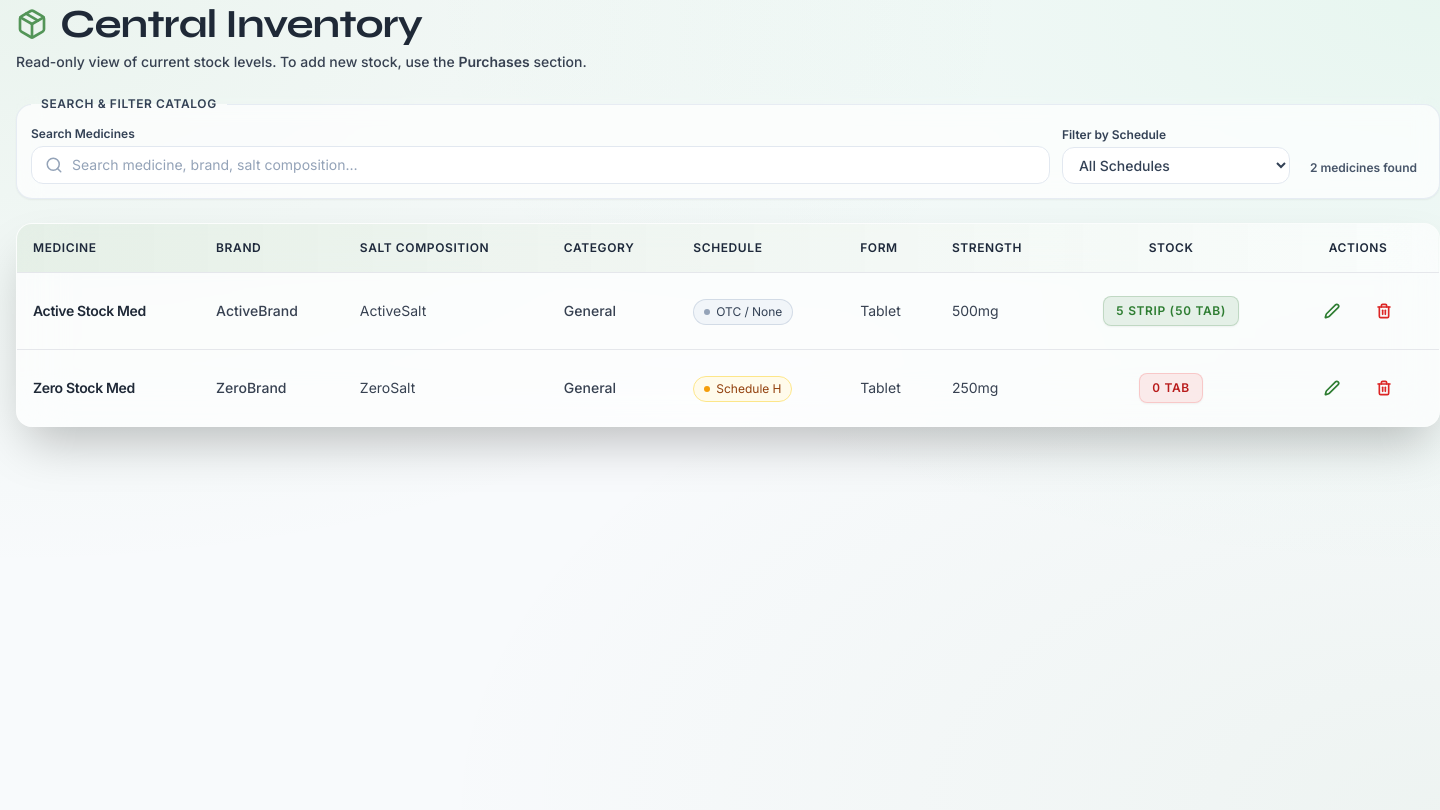
Scenario: Integration: Inventory Schedule & Filter Flow › locks units_per_strip in Edit modal when medicine has stock > 0, and allows it when stock is 0
Expected: the text "Active Stock Med" is shown, [33,302,146,319]
Expected: the text "Zero Stock Med" is shown, [33,379,135,396]
Step 1. Click the button named "Edit Active Stock Med" → click(1332, 311), box [1310,289,1354,333]
(page scrolled)
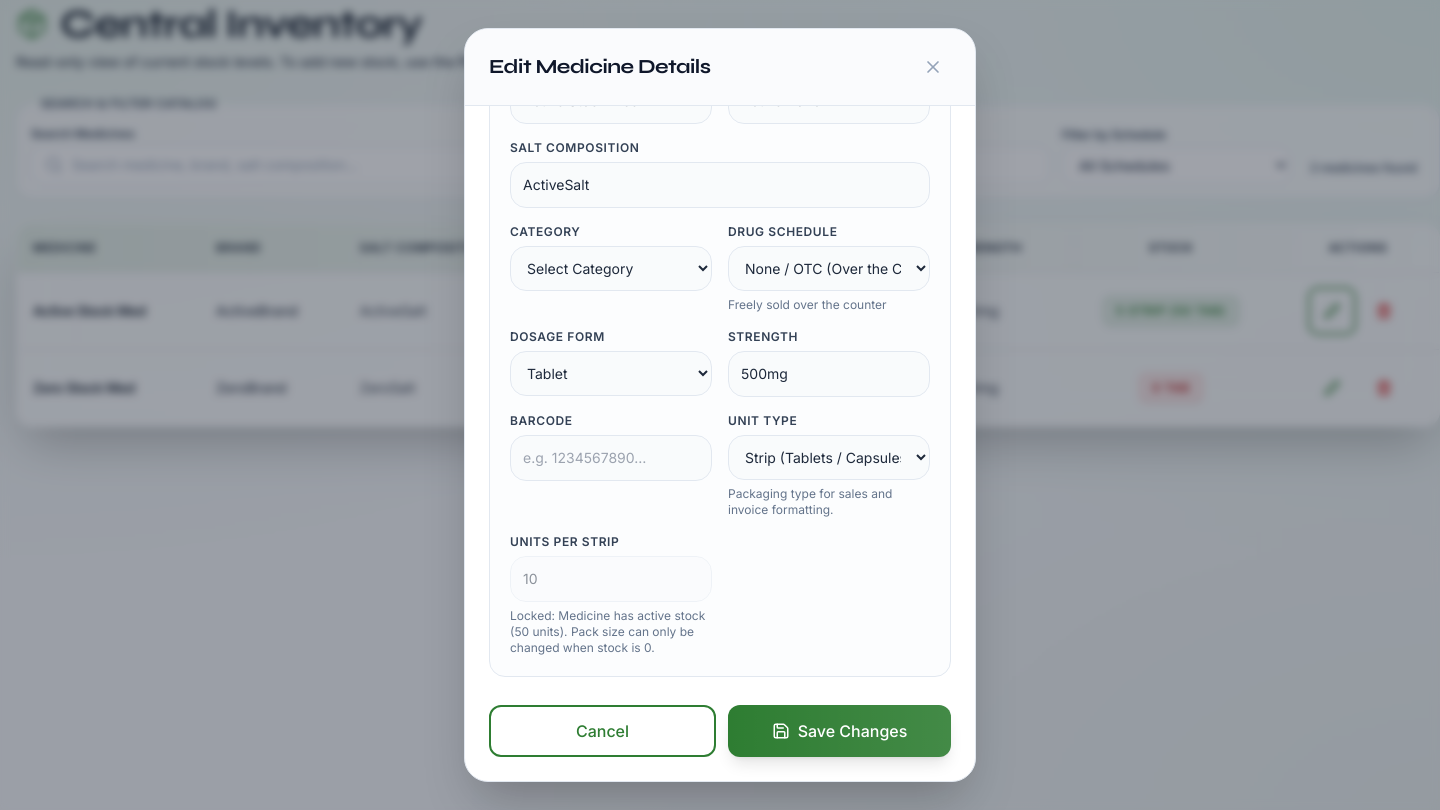
Result: the heading "Edit Medicine Details" is shown at [489,53,711,81]
Result: the number field labelled "Units per Strip" is disabled at [510,556,712,602]
Result: the text "Locked: Medicine has active stock (50 units)" is shown at [510,608,705,655]
Step 2. Click the button "Cancel" → click(602, 731), box [489,705,716,757]
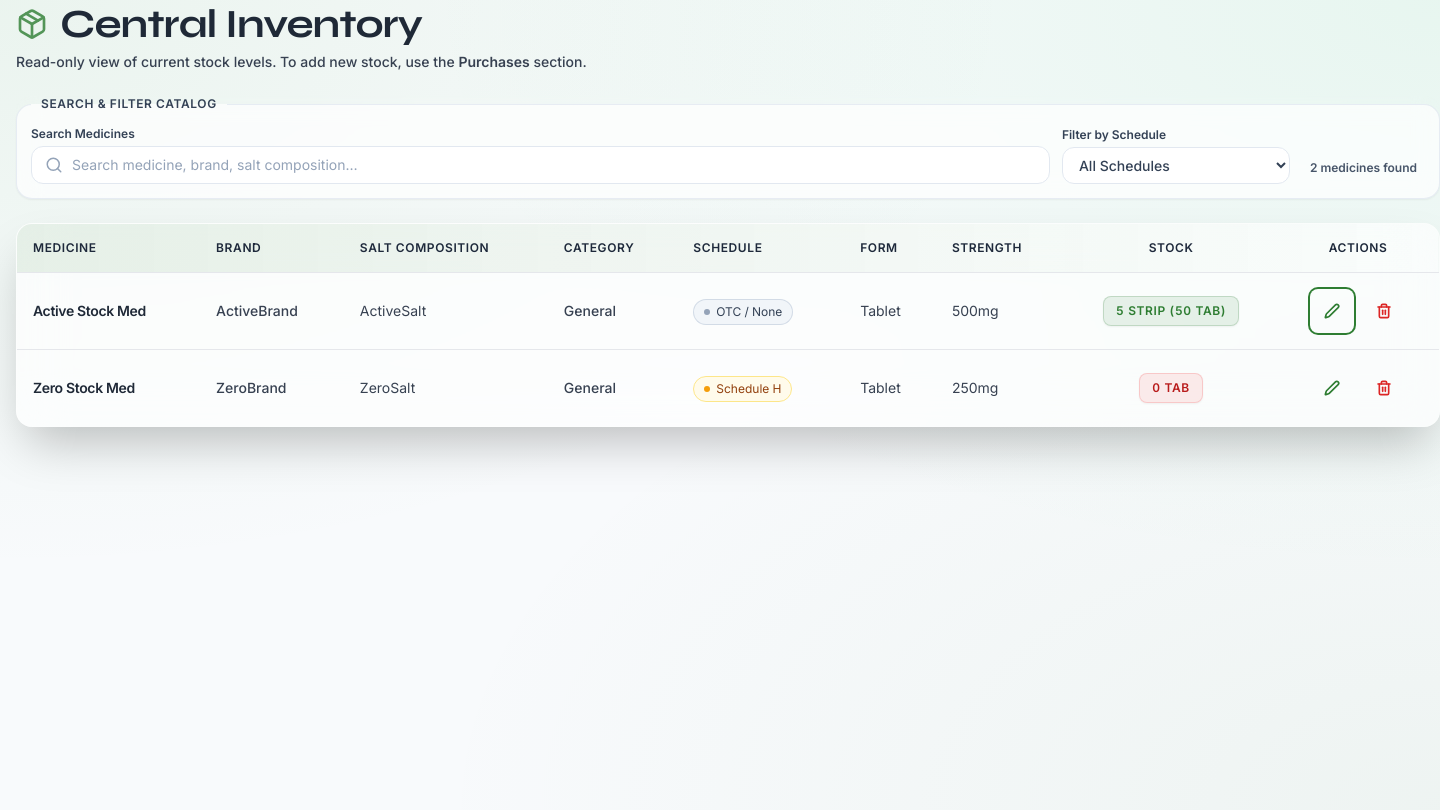
Step 3. Click the button named "Edit Zero Stock Med" → click(1332, 388), box [1310,366,1354,410]
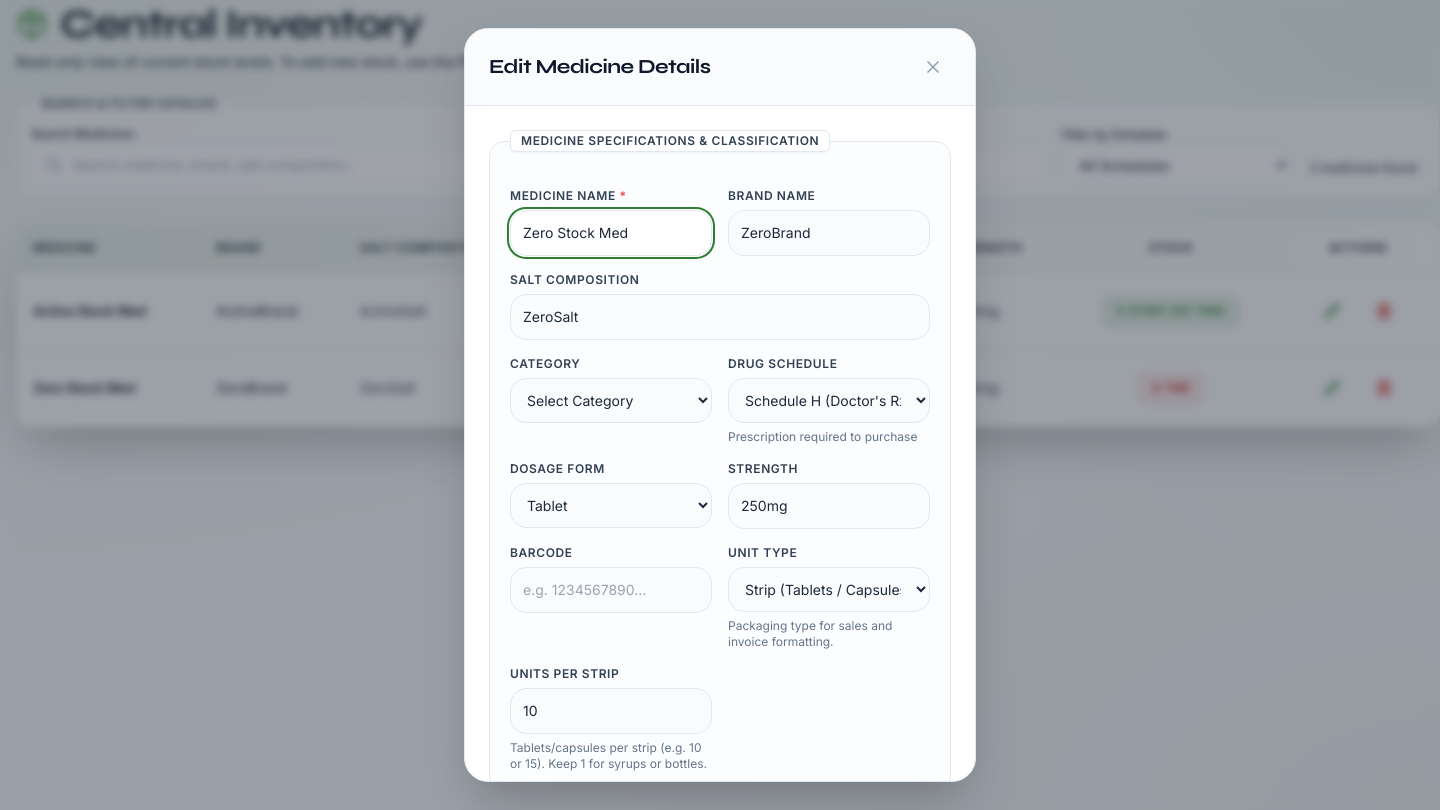
Result: the heading "Edit Medicine Details" is shown at [489,53,711,81]
Result: the number field labelled "Units per Strip" is enabled at [510,688,712,734]
